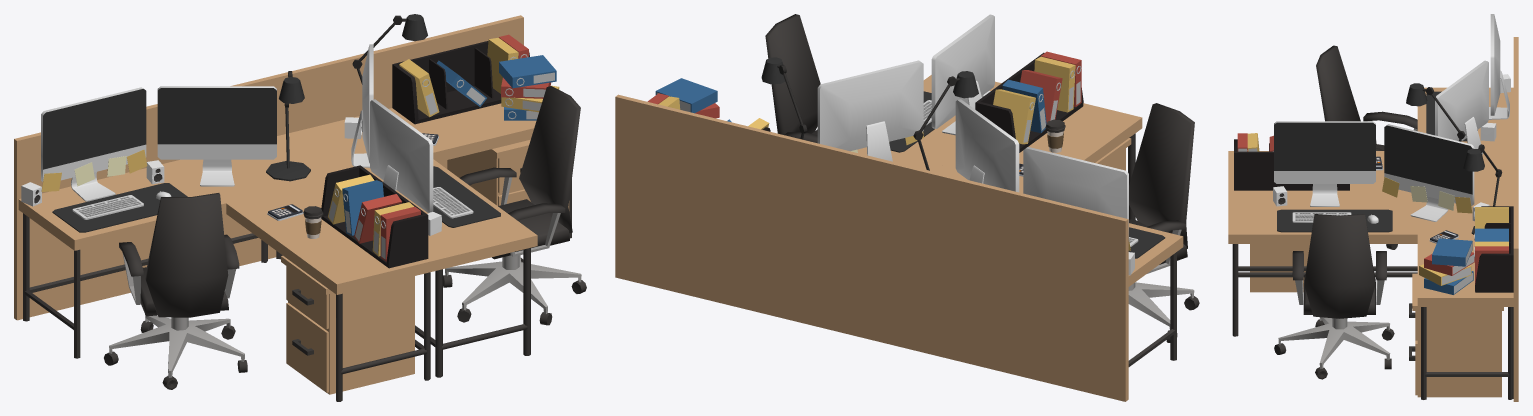
Rendered from Group_desk_03.FBX.
The picture shows the model from 3 angles, left to right: view 1: azimuth 30°, elevation 25°; view 2: azimuth 150°, elevation 25°; view 3: azimuth 270°, elevation 25°; orthographic projection. The views are drawn at different scales.
Parts seen in each view (by area): view 1: desk (×2), chair_01, chair_02, desk patition, drawer03 (×2), monitor_02, desk patiton, monitor_01, shelf_02, monitor_03, shelf_01, file books_02 (+18 smaller); view 2: desk patition, desk patiton, desk (×2), chair_01, monitor_04, monitor_01, chair_02, monitor_02, monitor_03, shelf_01, file books_02, file book_01 (+7 smaller); view 3: desk (×2), chair_02, drawer03 (×2), monitor_03, monitor_04, monitor_02, chair_01, file books_02, shelf_01, shelf_02, desk patiton, desk pad_02 (+11 smaller).
Boxes of the visible parts, <box> form: desk (×2): <box>18,103,571,401</box>; chair_01: <box>104,193,247,389</box>; chair_02: <box>443,86,586,325</box>; desk patition: <box>14,77,270,320</box>; drawer03 (×2): <box>281,139,530,394</box>; monitor_02: <box>157,86,276,186</box>; desk patiton: <box>268,15,523,258</box>; monitor_01: <box>41,87,146,201</box>; shelf_02: <box>392,41,529,124</box>; monitor_03: <box>370,99,433,212</box>; shelf_01: <box>321,165,428,268</box>; file books_02: <box>499,55,559,120</box>; desk patition: <box>870,157,1128,401</box>; desk patiton: <box>615,94,872,339</box>; desk (×2): <box>857,75,1183,366</box>; chair_01: <box>1128,103,1199,342</box>; monitor_04: <box>817,60,923,161</box>; monitor_01: <box>1023,147,1128,240</box>; chair_02: <box>765,14,820,143</box>; monitor_02: <box>955,99,1019,192</box>; monitor_03: <box>931,14,994,135</box>; shelf_01: <box>975,52,1083,152</box>; file books_02: <box>655,78,719,118</box>; file book_01: <box>993,89,1035,144</box>; desk (×2): <box>1228,87,1513,399</box>; chair_02: <box>1274,214,1394,379</box>; drawer03 (×2): <box>1250,244,1503,397</box>; monitor_03: <box>1274,121,1375,206</box>; monitor_04: <box>1384,124,1474,221</box>; monitor_02: <box>1435,60,1488,155</box>; chair_01: <box>1316,45,1417,249</box>; file books_02: <box>1419,238,1474,294</box>; shelf_01: <box>1234,139,1349,190</box>; shelf_02: <box>1475,206,1513,292</box>; desk patiton: <box>1513,143,1518,401</box>; desk pad_02: <box>1277,209,1392,232</box>.
Size of the model in its own units: 333 by 144 by 193.
1 material, 1 textured.
